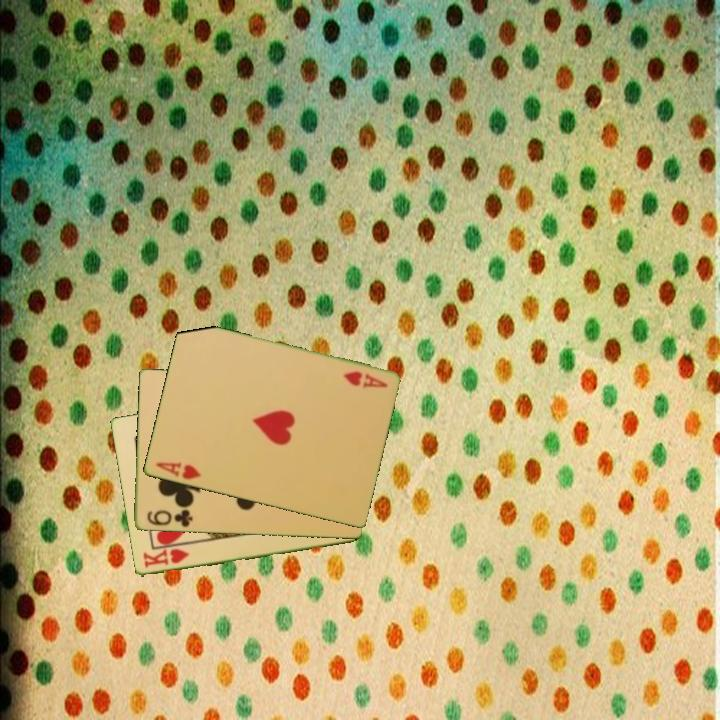6c: (143, 506, 195, 530)
Ah: (152, 459, 203, 483), (340, 368, 390, 391)
Kh: (139, 545, 192, 571)
